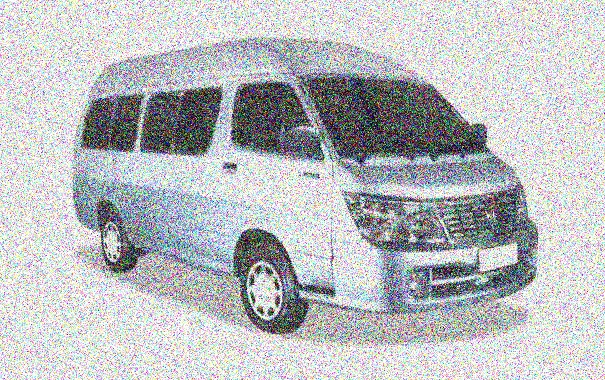van: (59, 36, 541, 328)
